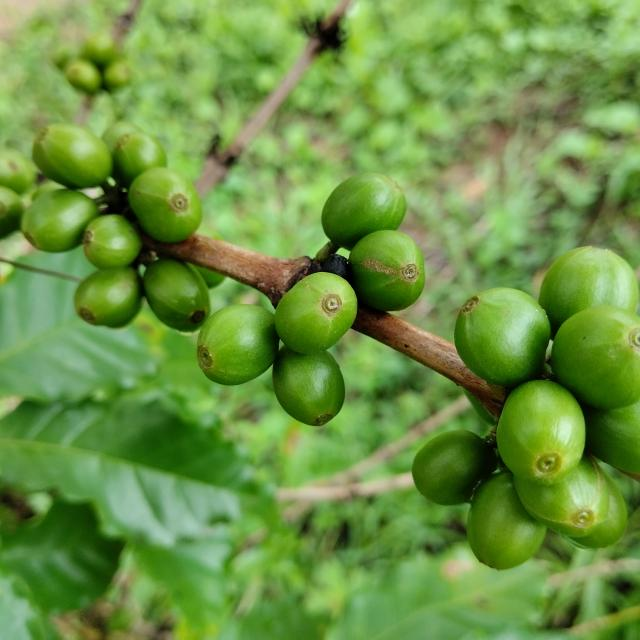green: (455, 288, 551, 388), (498, 380, 586, 486), (540, 246, 640, 338), (552, 306, 640, 410), (514, 455, 611, 538), (468, 472, 547, 571), (274, 272, 358, 354), (197, 305, 280, 386), (322, 172, 407, 250), (412, 430, 498, 506), (349, 230, 425, 311), (272, 345, 345, 426), (128, 167, 202, 242), (31, 123, 112, 188), (142, 258, 210, 332), (568, 469, 628, 550), (20, 189, 97, 252), (73, 267, 141, 328), (583, 402, 640, 474), (82, 214, 141, 269), (112, 131, 166, 185), (465, 390, 496, 425), (194, 266, 225, 288)
